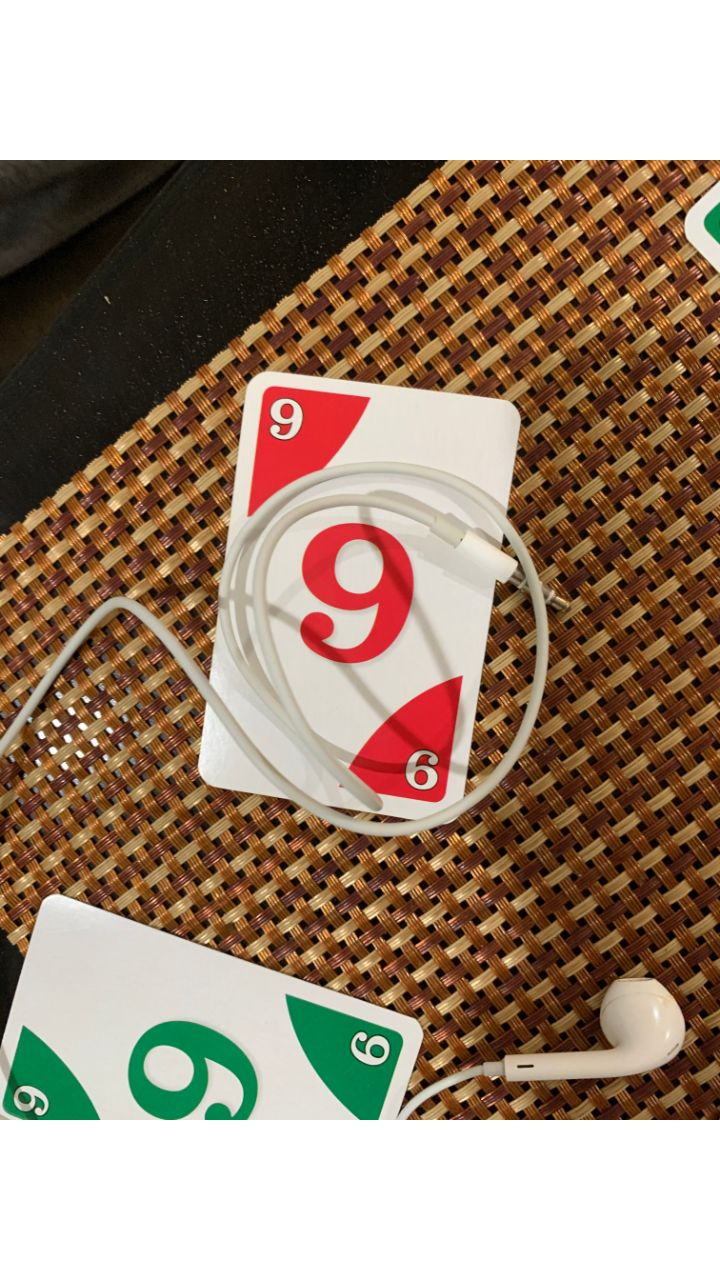nine: (192, 373, 524, 826)
